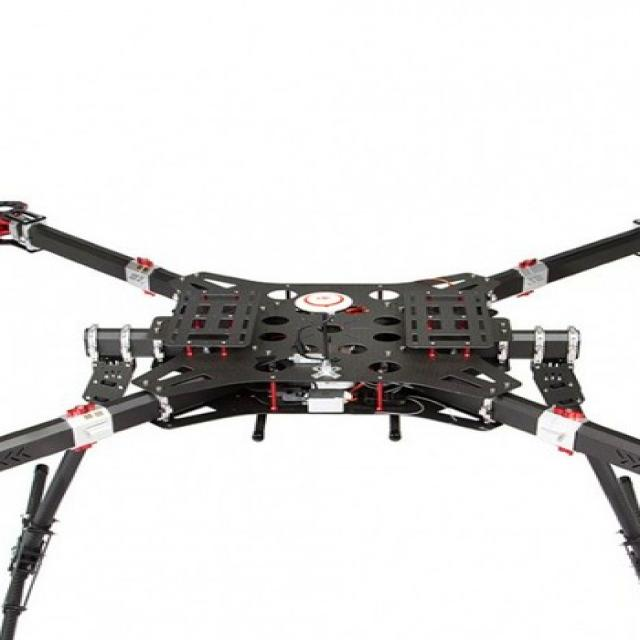drone: (0, 168, 640, 608)
